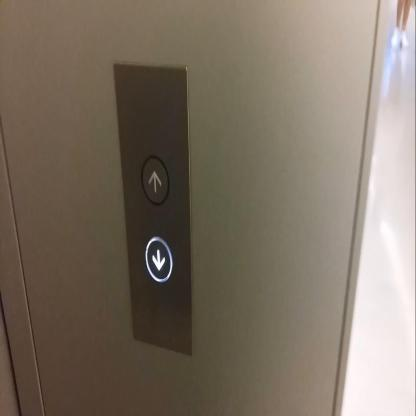down: (144, 235, 172, 283)
up: (141, 153, 169, 207)
